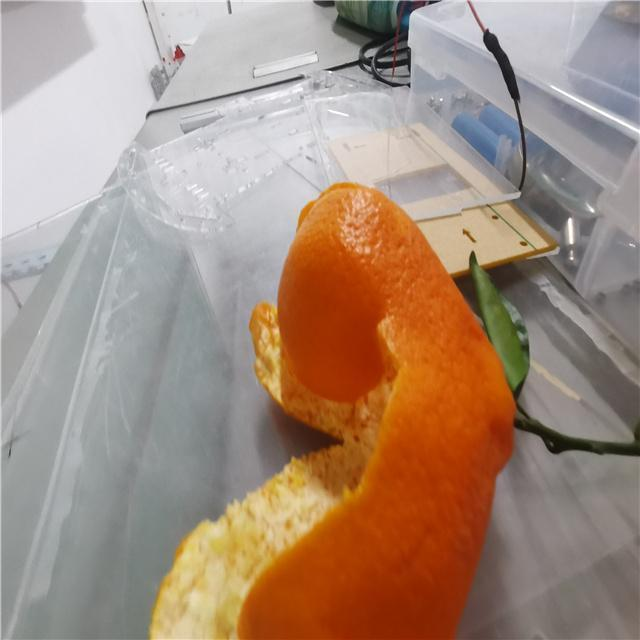orange peel: (148, 183, 517, 639)
